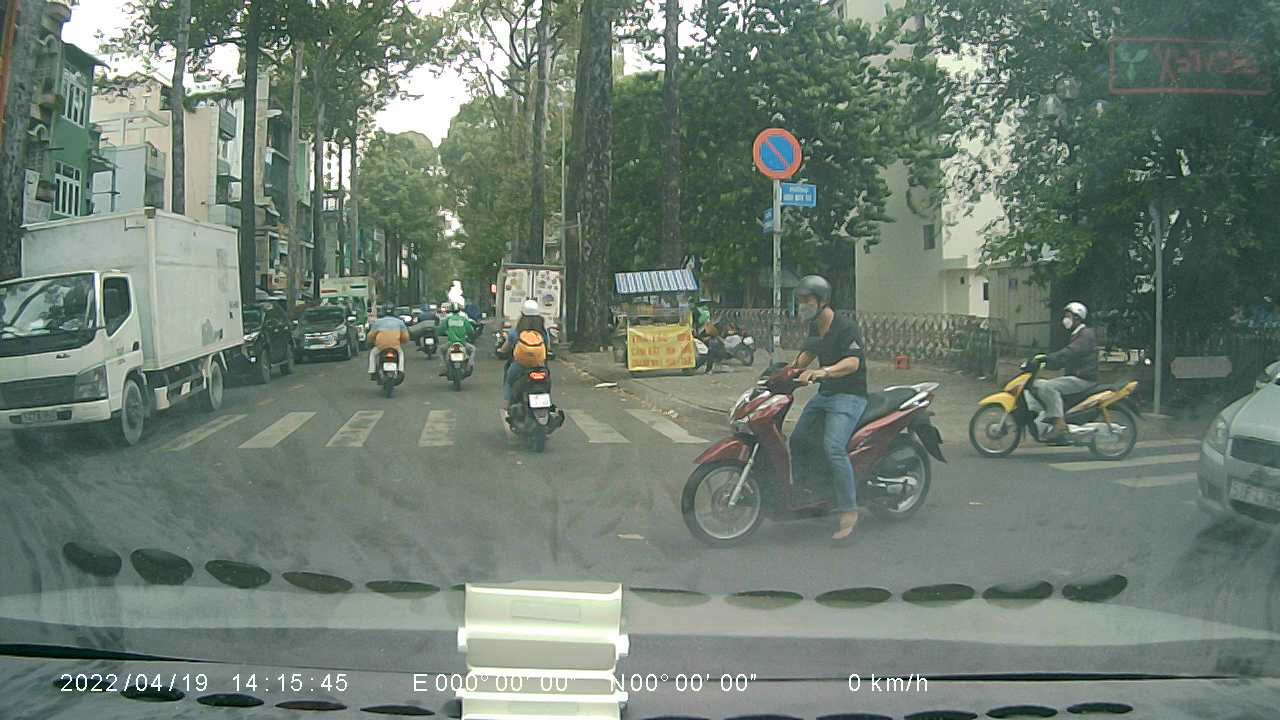Cam do xe: (750, 124, 806, 183)
